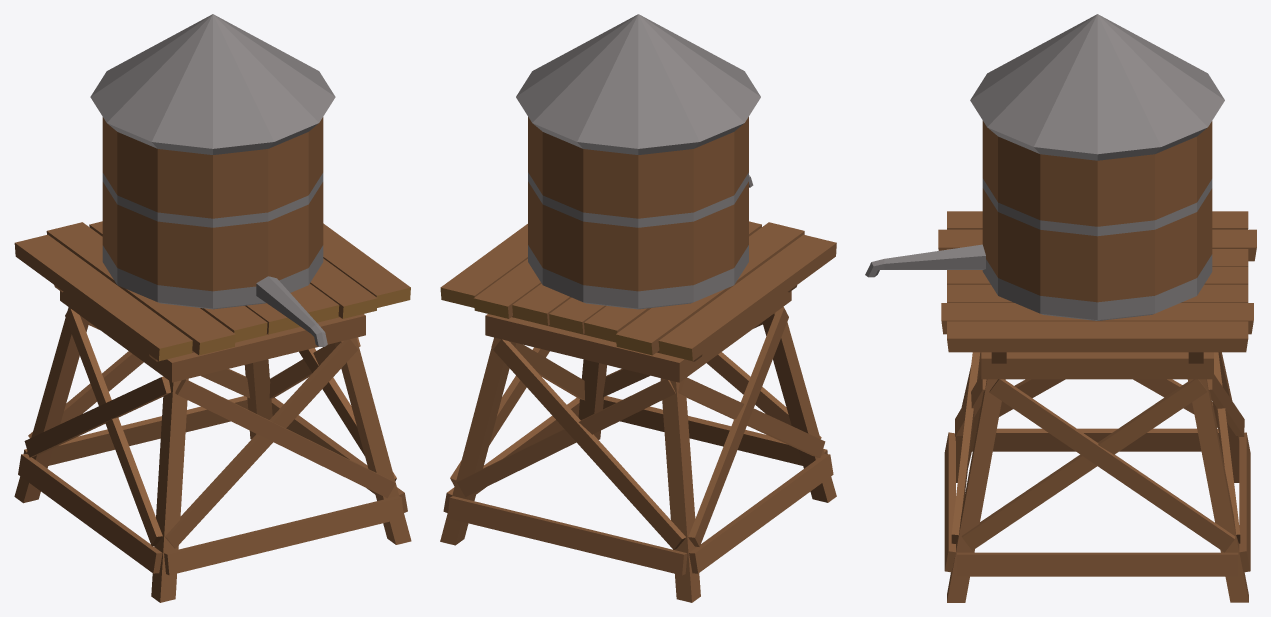
The model's file is western-water-tower-western.glb.
The picture shows the model from 3 angles, left to right: view 1: azimuth 30°, elevation 25°; view 2: azimuth 150°, elevation 25°; view 3: azimuth 270°, elevation 25°; orthographic projection. The views are drawn at different scales.
Parts seen in each view (by area): view 1: water-tower-western; view 2: water-tower-western; view 3: water-tower-western.
Boxes of the visible parts, left/top/right/bottom form: water-tower-western: left=14, top=14, right=411, bottom=602; water-tower-western: left=440, top=14, right=836, bottom=602; water-tower-western: left=865, top=14, right=1256, bottom=602.
Size of the model in its own units: 4.06 by 7.69 by 5.2.
